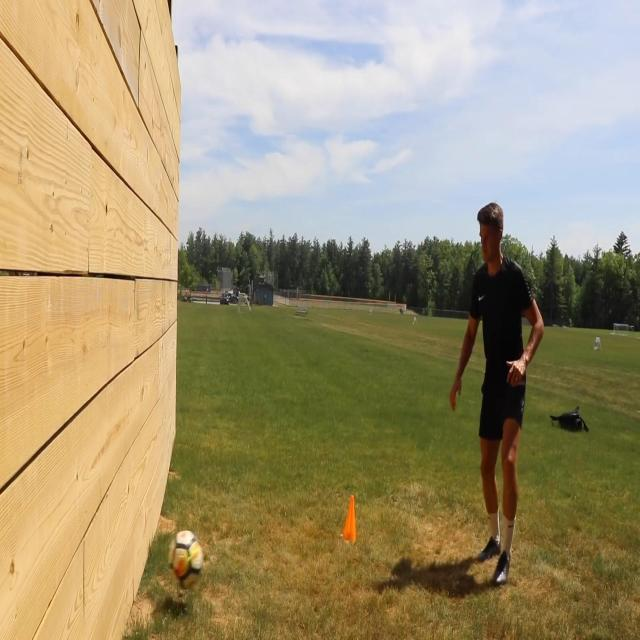Soccer Ball: (168, 530, 203, 591)
